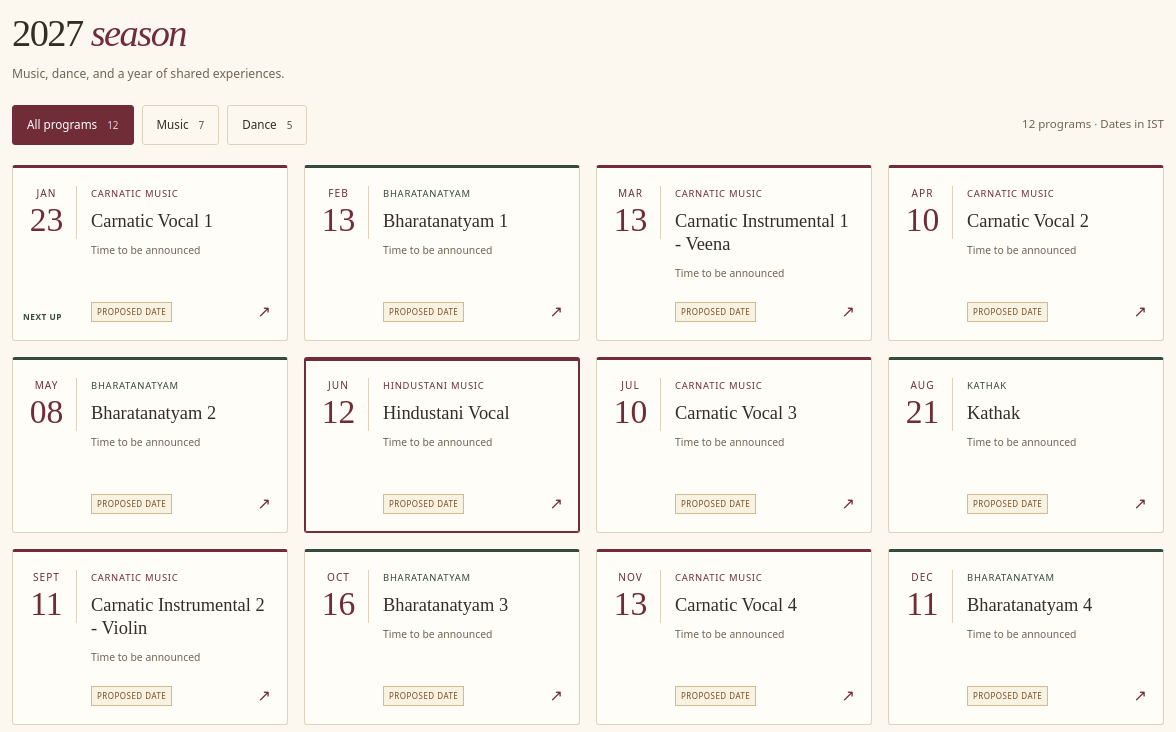
it: event season overview › filters music and dance with accurate counts and selectable programs
The width and height of the screenshot is (1176, 732).
Later steps or results of the test are not shown.
Click the button "Music 7".
click(180, 125)  # box [142,105,219,145]
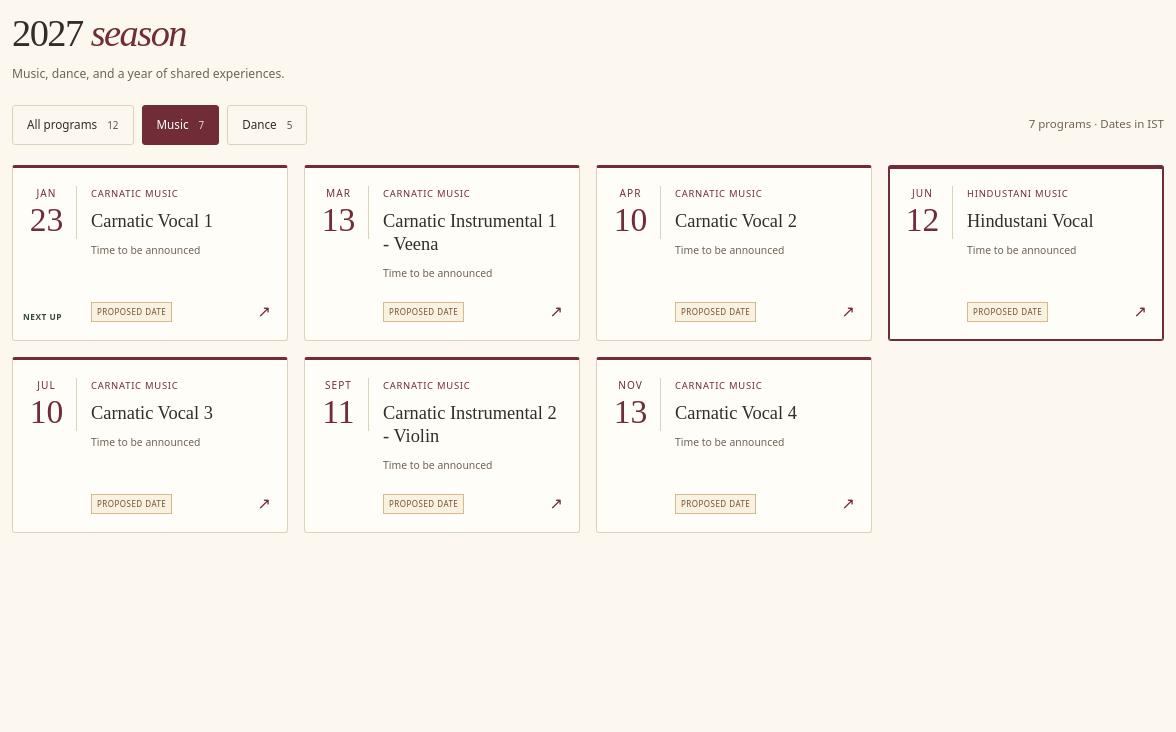
Click the button with aria-label "Hindustani Vocal, 12 June 2027 | Time to be announced (IST),".
click(1026, 253)  # box [888,165,1164,341]
Click the button "Dance 5".
click(267, 125)  # box [227,105,307,145]
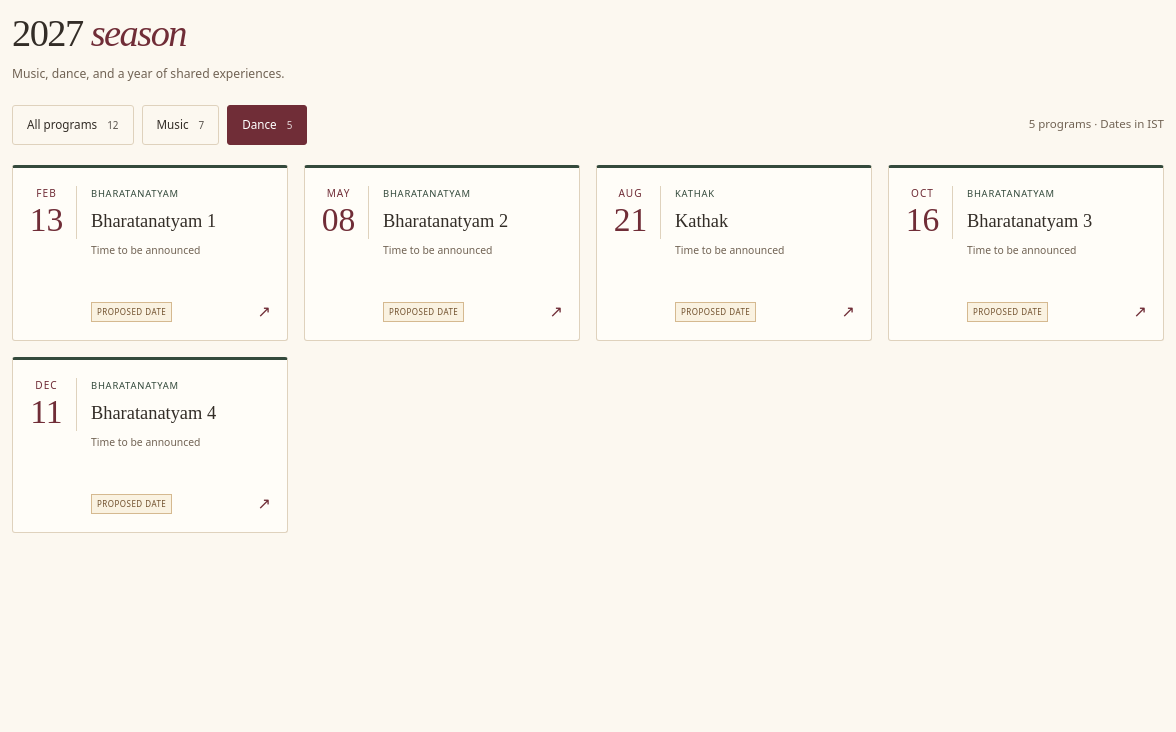
Expected: the message shows "5 programs", [1029,114,1164,135]
